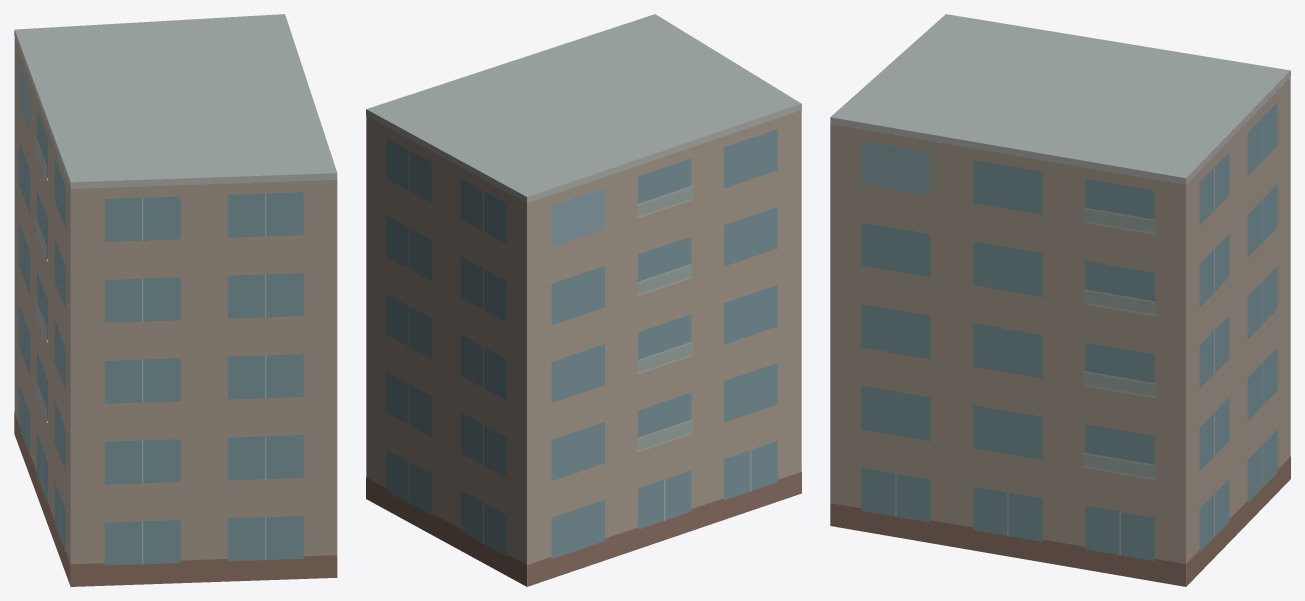
File: survey-upis-32745637.glb
The picture shows the model from 3 angles, left to right: view 1: azimuth 30°, elevation 25°; view 2: azimuth 150°, elevation 25°; view 3: azimuth 270°, elevation 25°; orthographic projection. The views are drawn at different scales.
Parts seen in each view (by area): view 1: survey-upis-32745637.tmp; view 2: survey-upis-32745637.tmp; view 3: survey-upis-32745637.tmp.
Boxes of the visible parts, x1,y1,x2,y2 form: survey-upis-32745637.tmp: [14, 14, 337, 586]; survey-upis-32745637.tmp: [366, 14, 801, 586]; survey-upis-32745637.tmp: [830, 14, 1290, 586].
Size of the model in its own units: 12.85 by 14.9 by 15.23.
